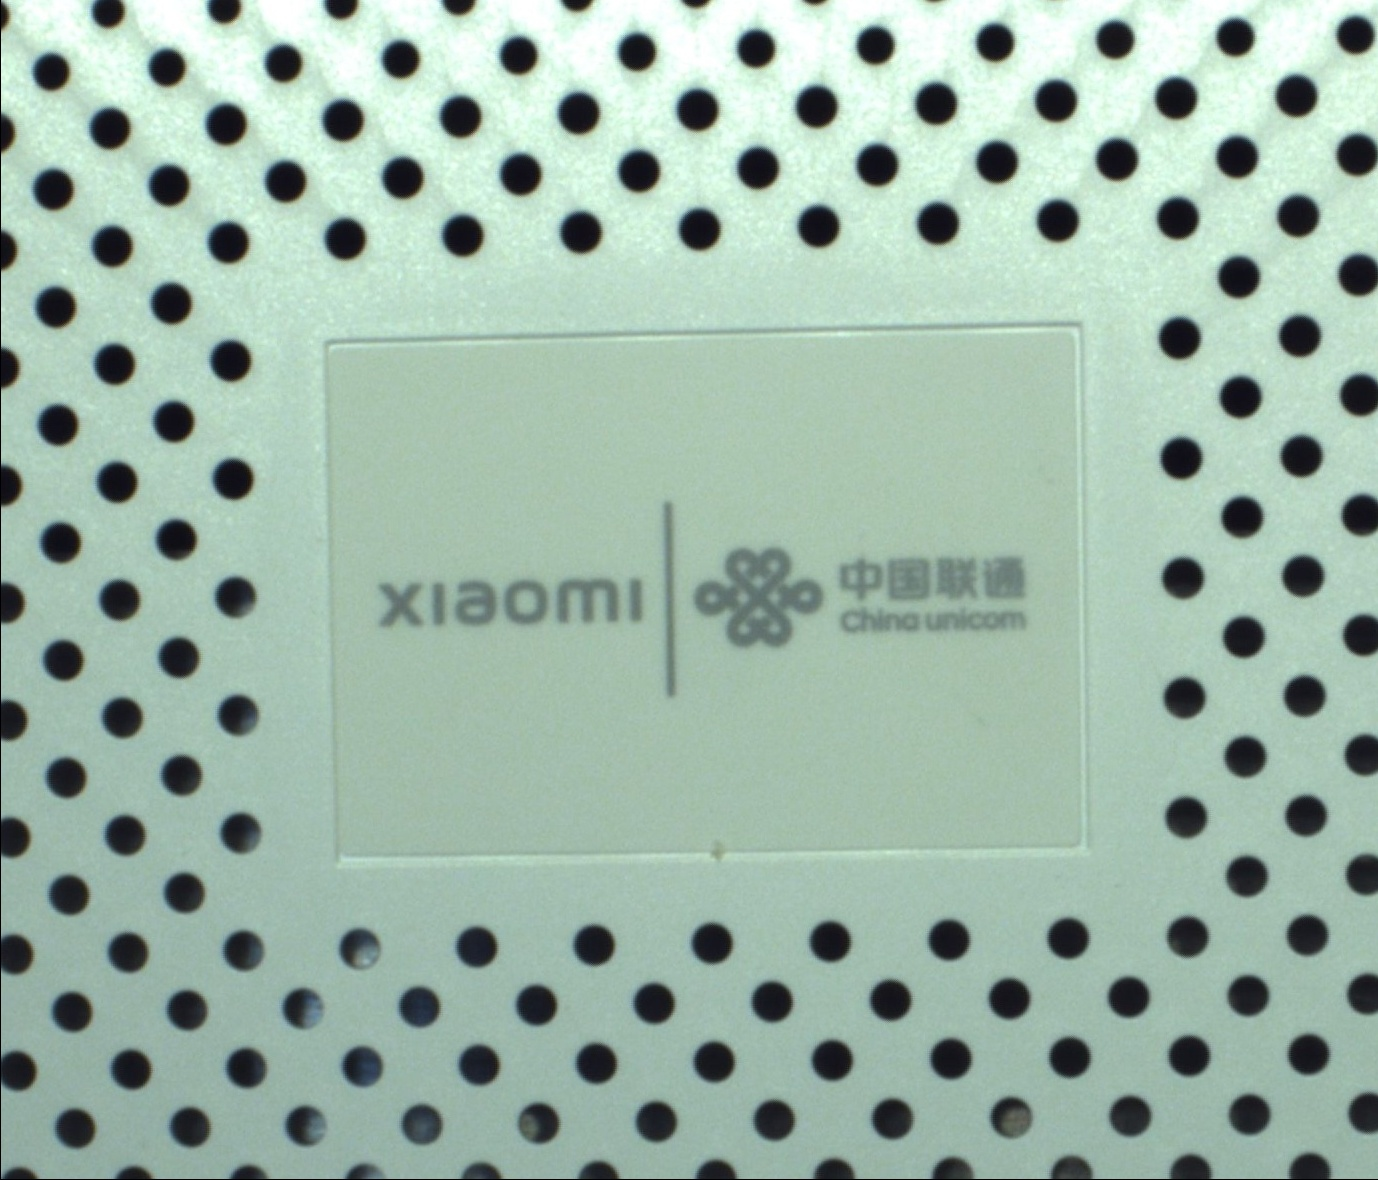MAC_NewUnicom: (368, 495, 1024, 698)
